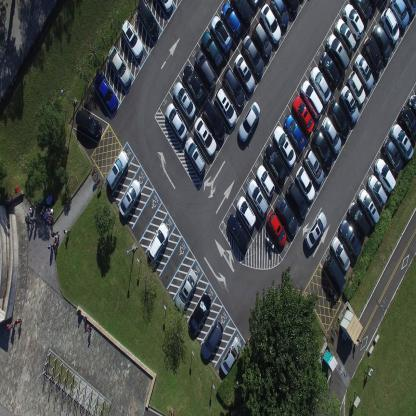car: (173, 268, 199, 312), (188, 292, 212, 337), (107, 45, 132, 88), (237, 100, 261, 144), (105, 149, 129, 192), (93, 72, 118, 113), (202, 97, 225, 141), (273, 125, 296, 169), (263, 143, 287, 185), (200, 319, 224, 360), (241, 34, 264, 76), (326, 33, 350, 73), (304, 210, 328, 250), (147, 221, 170, 262), (137, 0, 160, 41), (214, 86, 237, 127), (233, 52, 256, 93), (182, 64, 205, 105), (275, 195, 298, 236), (300, 78, 323, 119), (164, 102, 188, 141), (223, 66, 245, 108), (120, 18, 143, 58), (194, 50, 217, 90), (246, 178, 269, 218), (339, 218, 362, 258), (357, 187, 380, 227), (390, 122, 414, 160), (284, 113, 306, 154), (173, 81, 196, 120), (312, 127, 333, 169), (220, 336, 242, 376), (194, 115, 216, 155), (118, 179, 141, 217), (200, 30, 223, 68), (260, 2, 281, 43), (292, 95, 314, 134), (324, 254, 346, 293), (211, 14, 232, 54), (329, 98, 350, 138), (184, 136, 206, 174), (227, 214, 249, 252), (310, 66, 332, 104), (334, 18, 356, 56), (286, 181, 308, 218), (374, 157, 396, 194), (75, 108, 102, 138), (320, 116, 341, 154), (342, 3, 364, 39), (348, 201, 370, 237), (363, 34, 383, 73), (379, 7, 400, 44), (330, 235, 351, 272), (266, 209, 286, 247), (372, 22, 392, 60), (221, 2, 242, 38), (303, 148, 324, 184), (319, 51, 339, 88), (354, 53, 374, 90), (252, 22, 272, 58), (382, 137, 402, 173), (367, 173, 388, 207), (340, 85, 359, 122), (296, 165, 315, 202), (398, 105, 416, 143), (237, 195, 256, 230), (256, 164, 275, 198), (388, 0, 410, 29), (347, 71, 365, 105), (230, 0, 253, 25), (269, 0, 289, 27), (352, 0, 372, 20), (280, 0, 299, 14), (402, 0, 416, 17), (407, 92, 416, 118), (158, 0, 174, 12), (247, 0, 260, 7), (367, 0, 379, 7)
